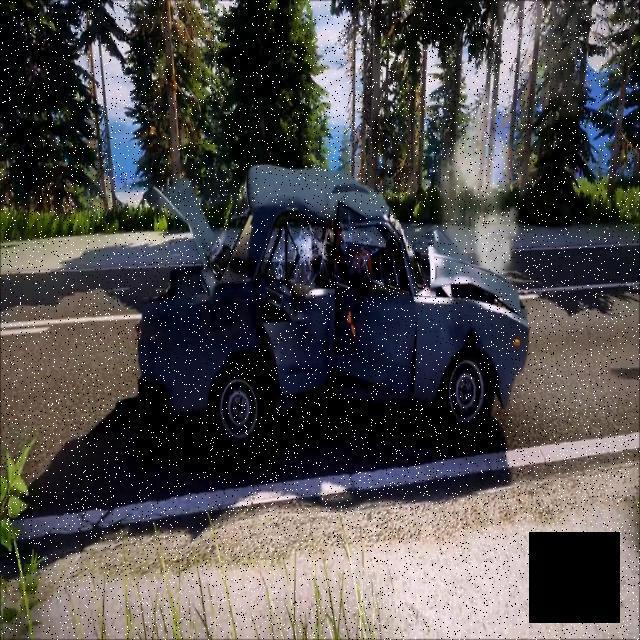single accident: (110, 152, 525, 458)
